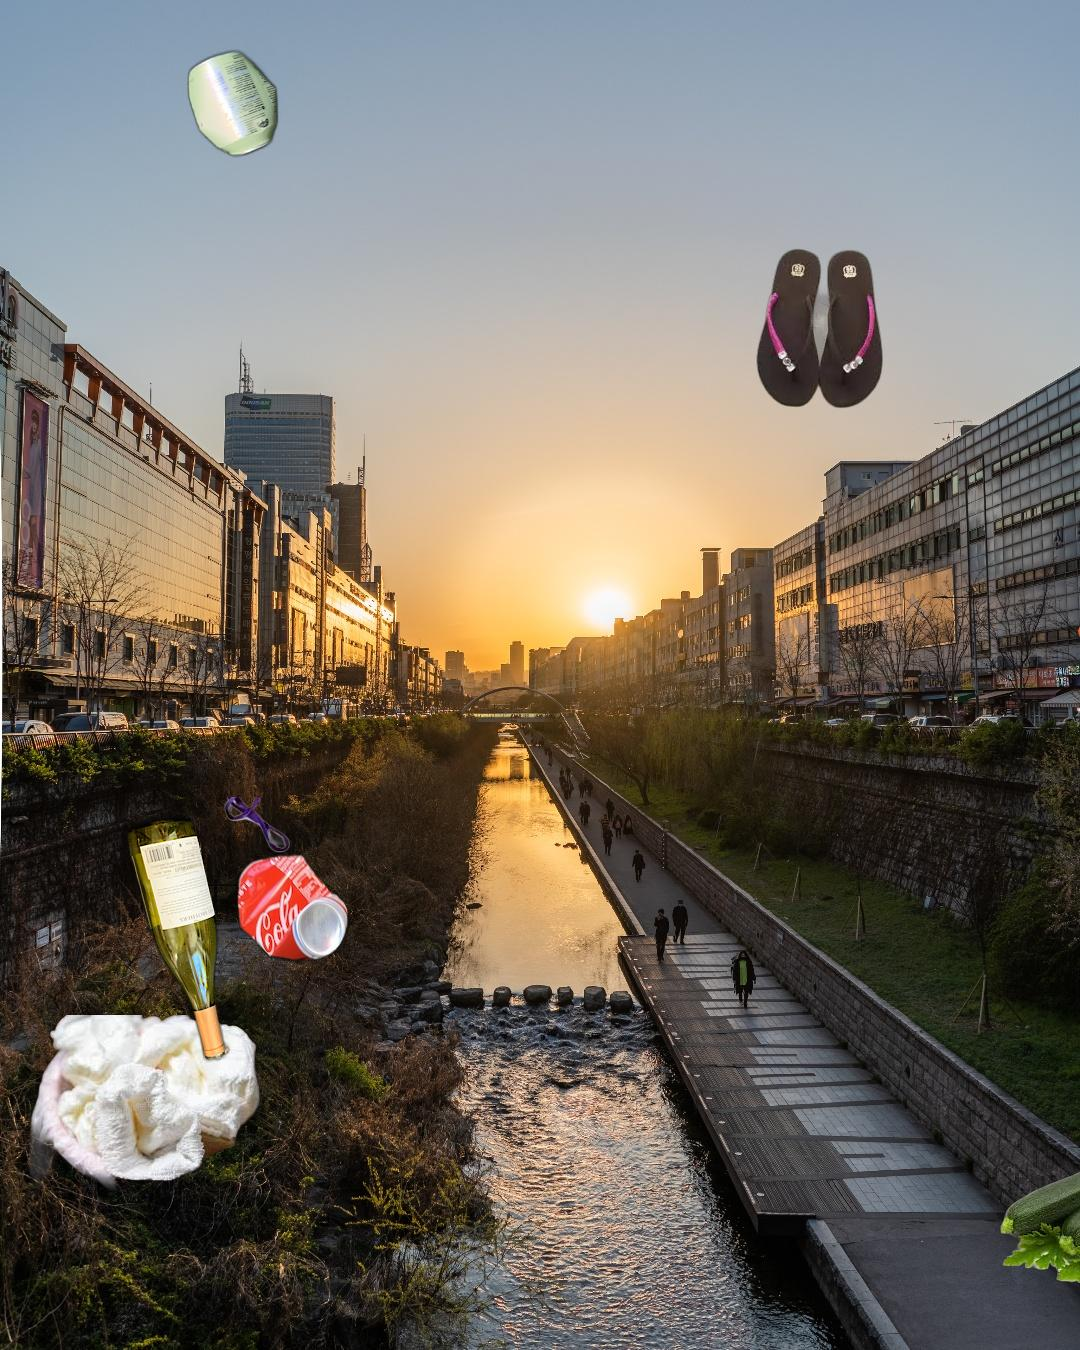biological: (998, 1156, 1080, 1302)
glass: (123, 811, 234, 1066)
metal-cans: (90, 847, 602, 1339), (183, 44, 283, 162)
paper-bag: (1074, 492, 1080, 694)
shoes: (95, 797, 315, 954), (754, 246, 886, 410)
trash: (20, 1015, 263, 1198)
